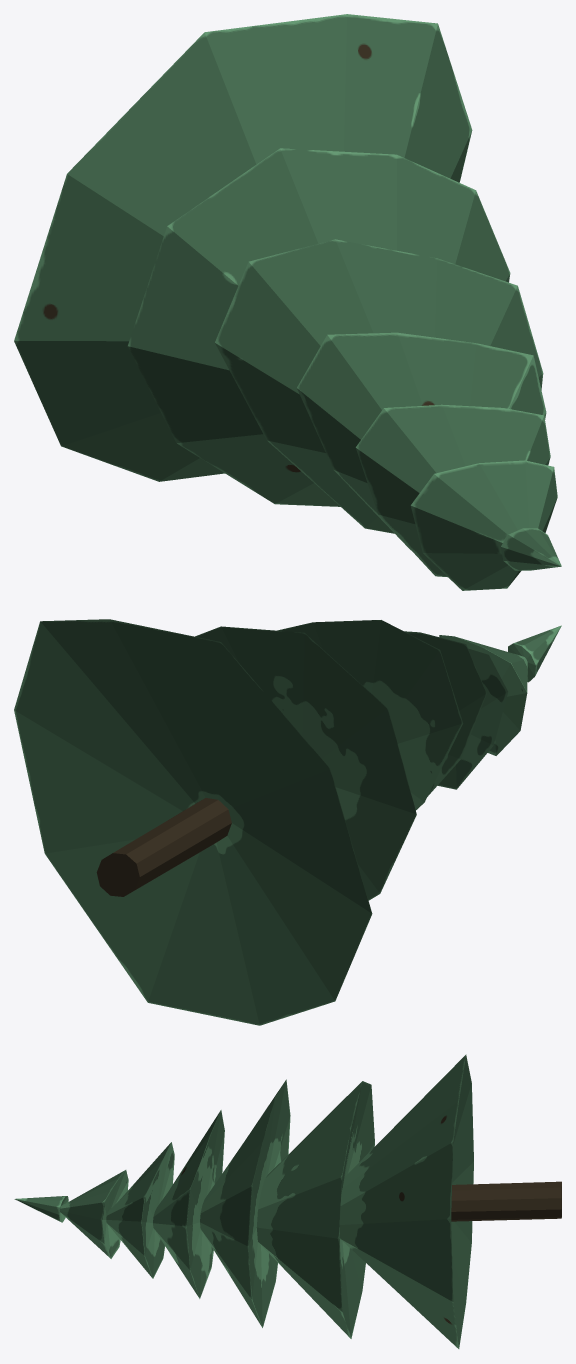
Rendered from PT_tree_001_test.FBX.
The picture shows the model from 3 angles, top to bottom: view 1: azimuth 30°, elevation 25°; view 2: azimuth 150°, elevation 25°; view 3: azimuth 270°, elevation 25°; orthographic projection. The views are drawn at different scales.
Parts seen in each view (by area): view 1: Cylinder013; view 2: Cylinder013; view 3: Cylinder013.
Boxes of the visible parts, x1,y1,x2,y2 form: Cylinder013: [14, 14, 561, 590]; Cylinder013: [14, 619, 561, 1025]; Cylinder013: [14, 1054, 561, 1348].
Size of the model in its own units: 18.38 by 17.97 by 33.24.
1 material, 1 textured.
